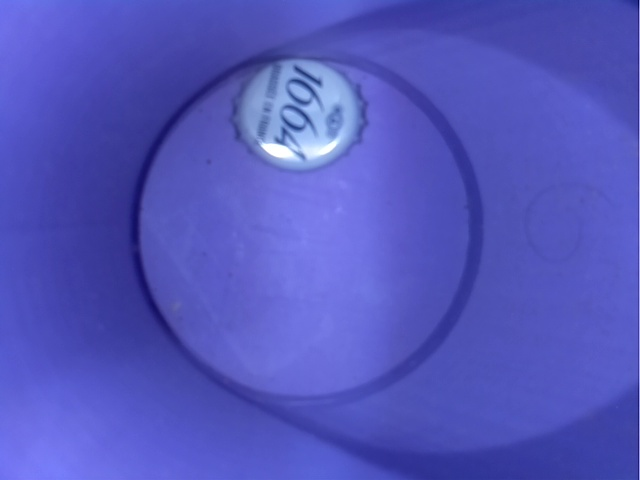capsule: (227, 52, 382, 174)
